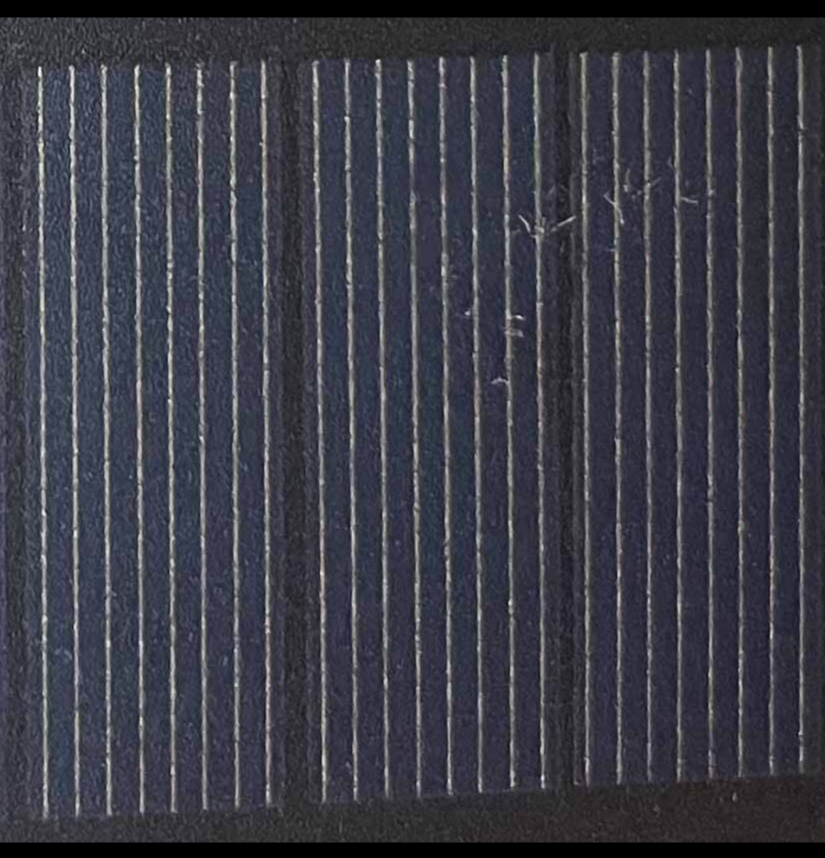Crack: (505, 156, 704, 250)
